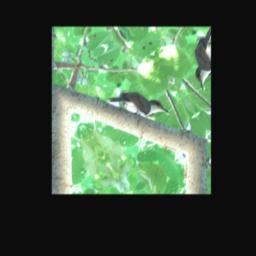Cuckoo: (106, 74, 170, 139)
